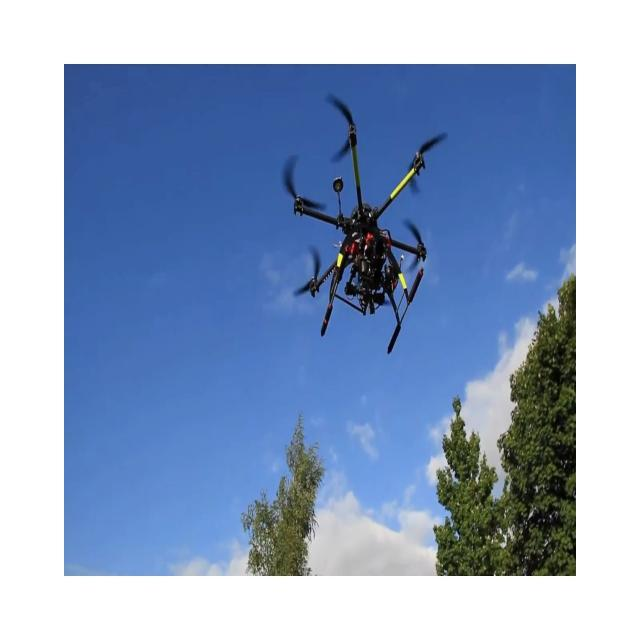drone: (282, 92, 448, 354)
